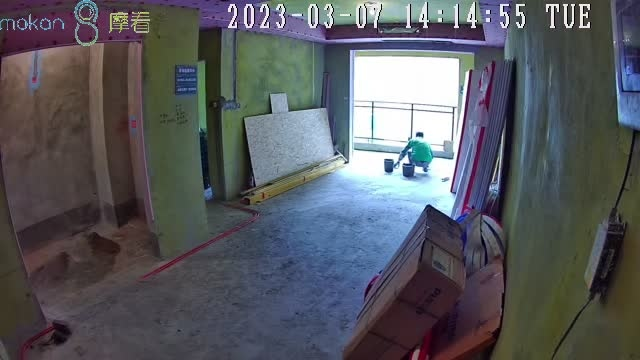people: (394, 132, 433, 171)
window: (352, 54, 461, 153)
